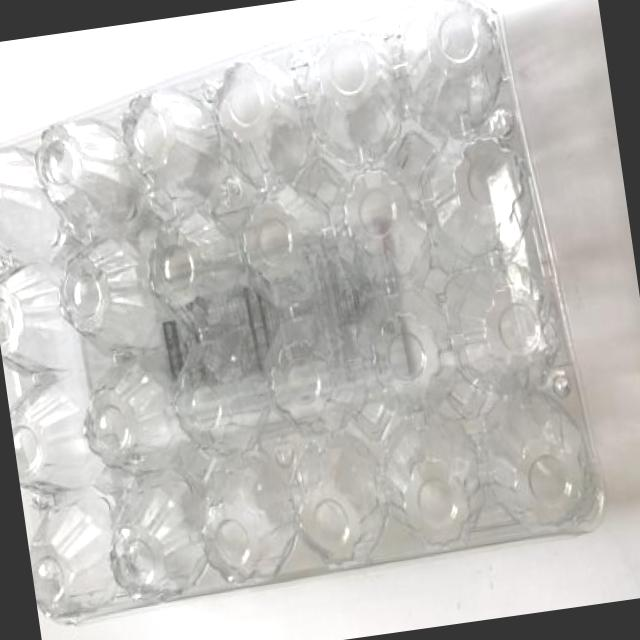Trash: (0, 0, 612, 617)
